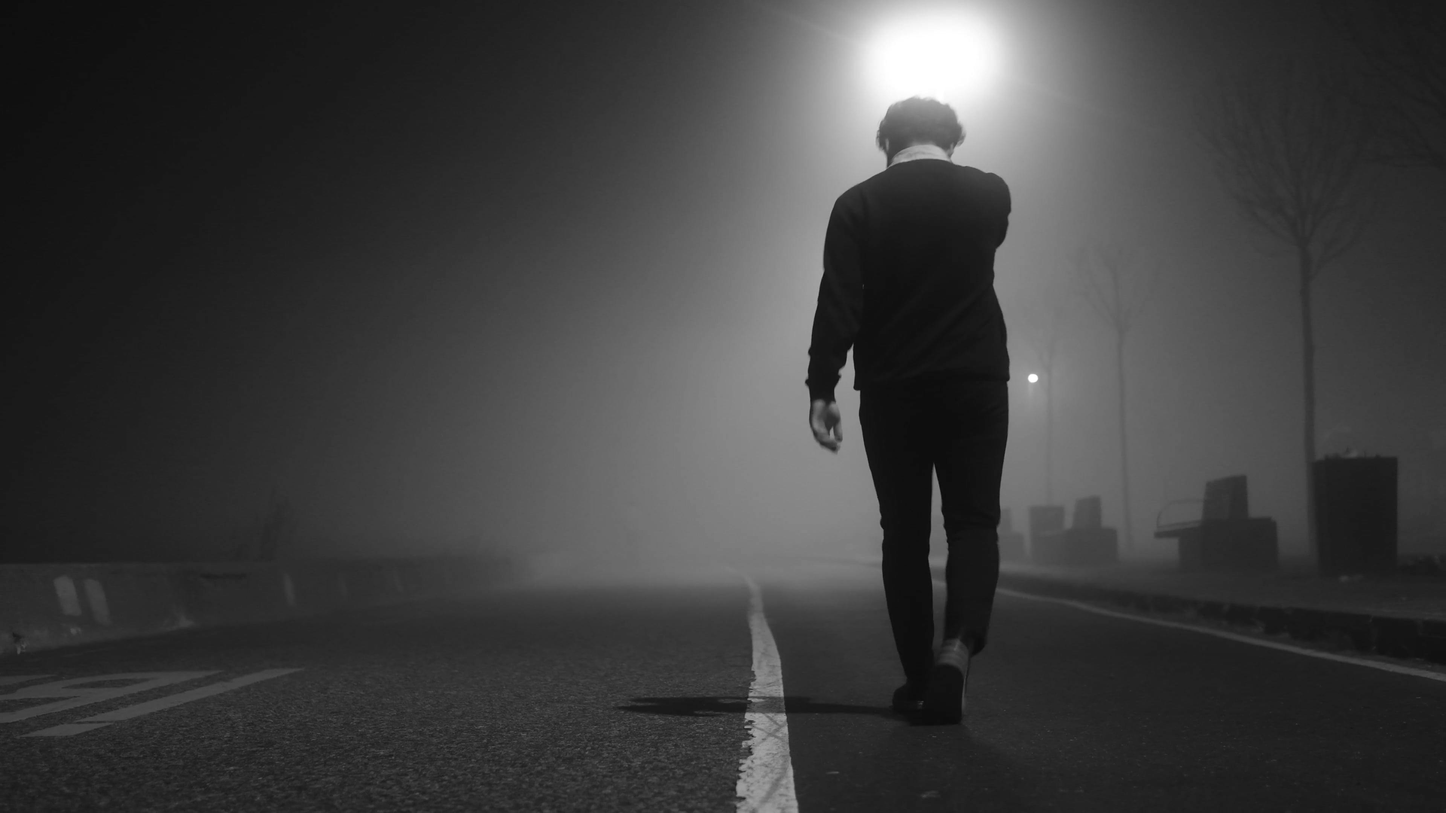Person: (802, 88, 1053, 747)
